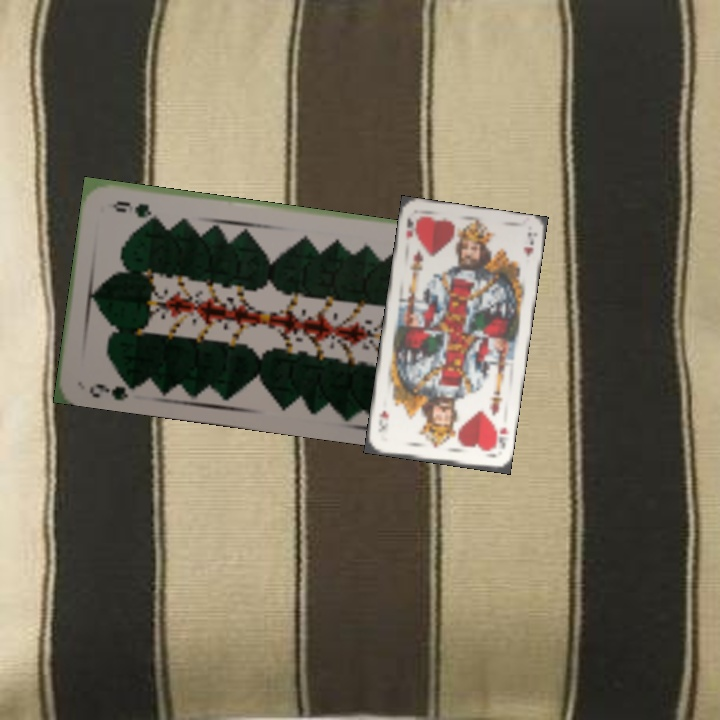G9: (85, 376, 140, 403)
HK: (489, 423, 511, 454), (402, 213, 416, 243)
